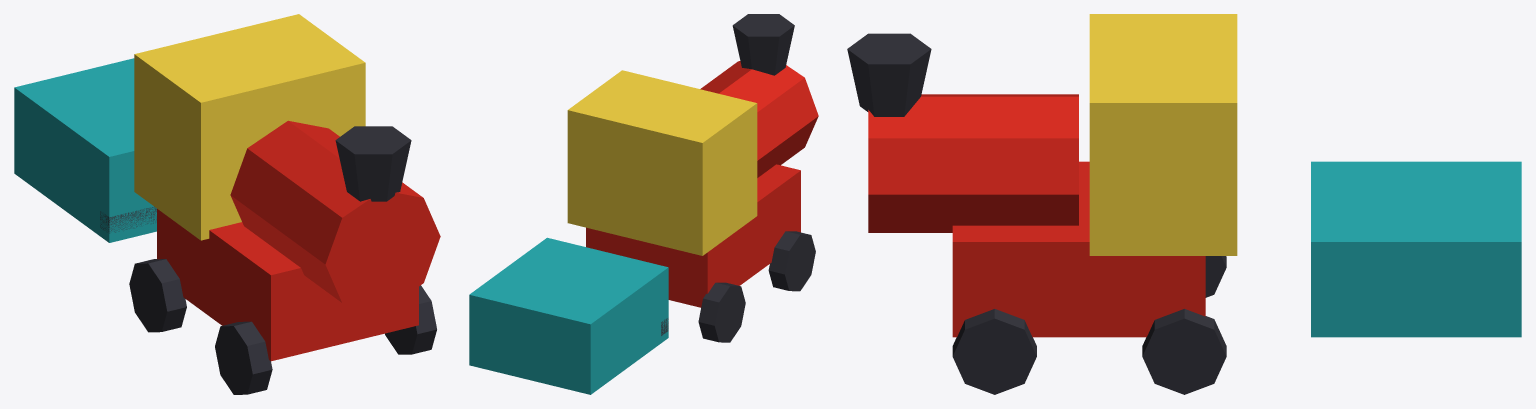
Rendered from kiddie_train.glb.
3 views of the same model, side by side, from view 1: azimuth 30°, elevation 25°; view 2: azimuth 150°, elevation 25°; view 3: azimuth 270°, elevation 25° (orthographic). The views are drawn at different scales.
Visible parts, largest first — view 1: kiddie_train; view 2: kiddie_train; view 3: kiddie_train.
Part boxes in pixels (<box>): kiddie_train: <box>14,14,440,394</box>; kiddie_train: <box>469,14,818,394</box>; kiddie_train: <box>847,14,1521,394</box>.
Size of the model in its own units: 1.12 by 1.55 by 3.2.
